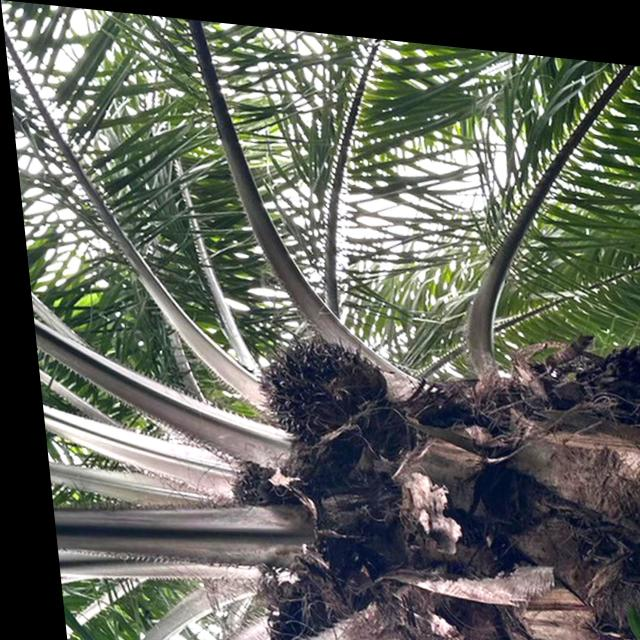unripe: (238, 312, 388, 446), (245, 551, 340, 640), (213, 450, 285, 515)
